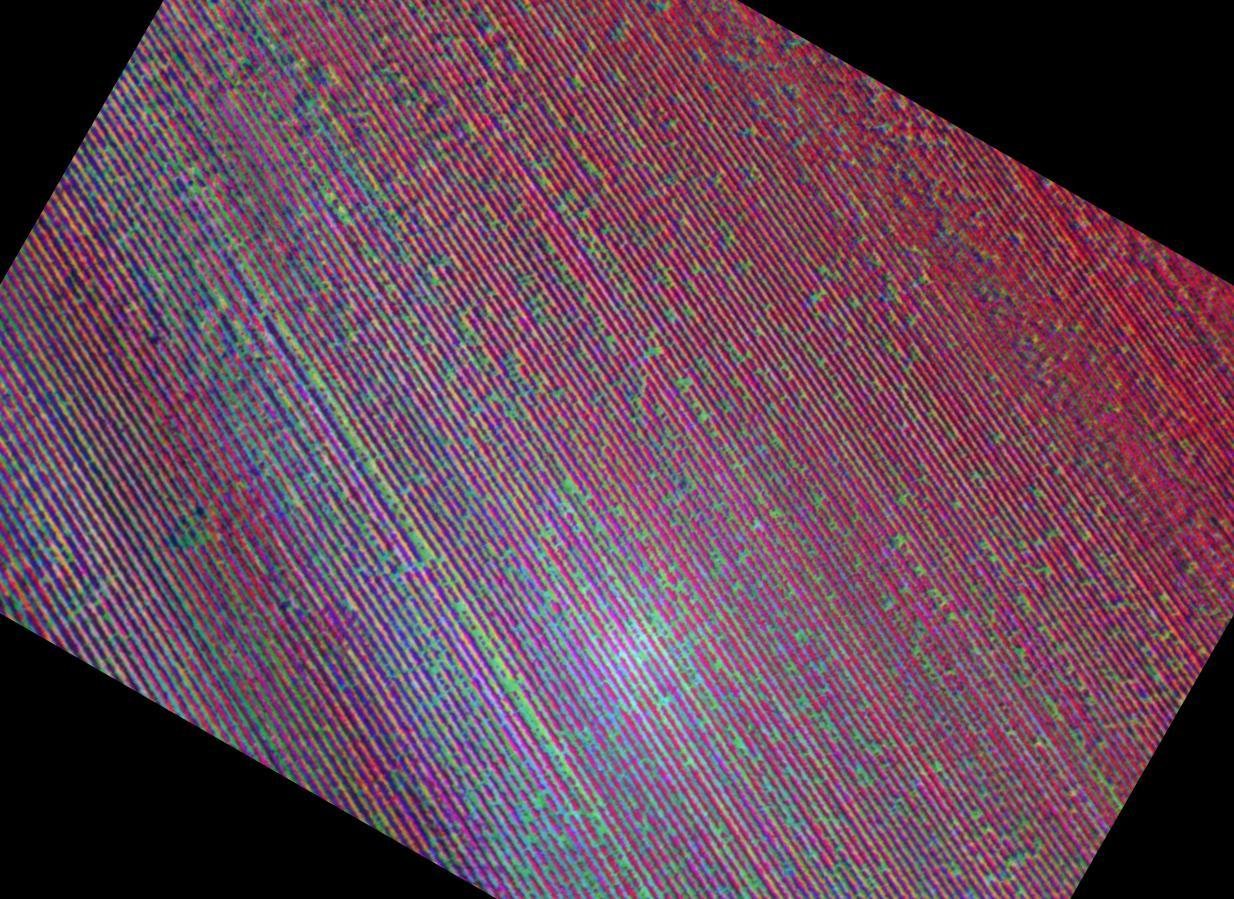dc: (578, 578, 679, 678), (111, 110, 205, 205), (263, 38, 355, 127), (193, 288, 274, 374), (316, 460, 388, 531)
